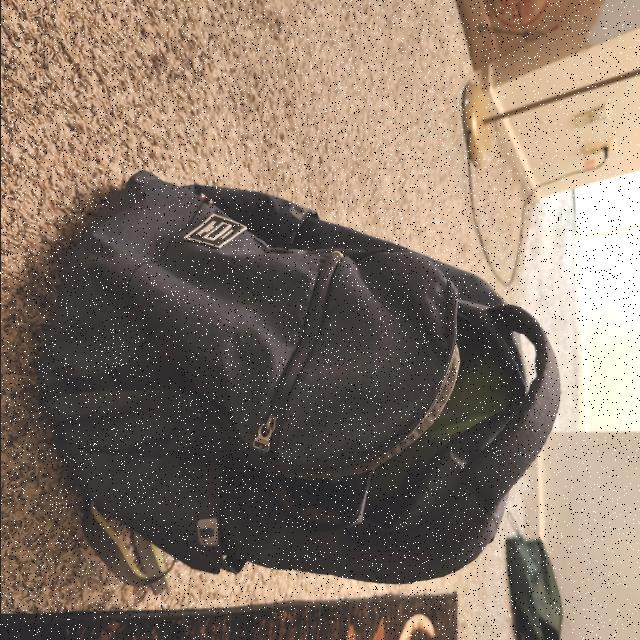bag: (54, 172, 560, 590)
